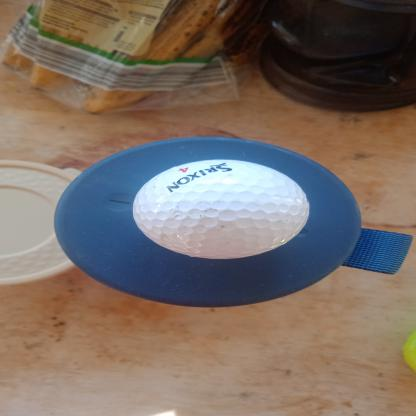Golf: (131, 157, 314, 263)
